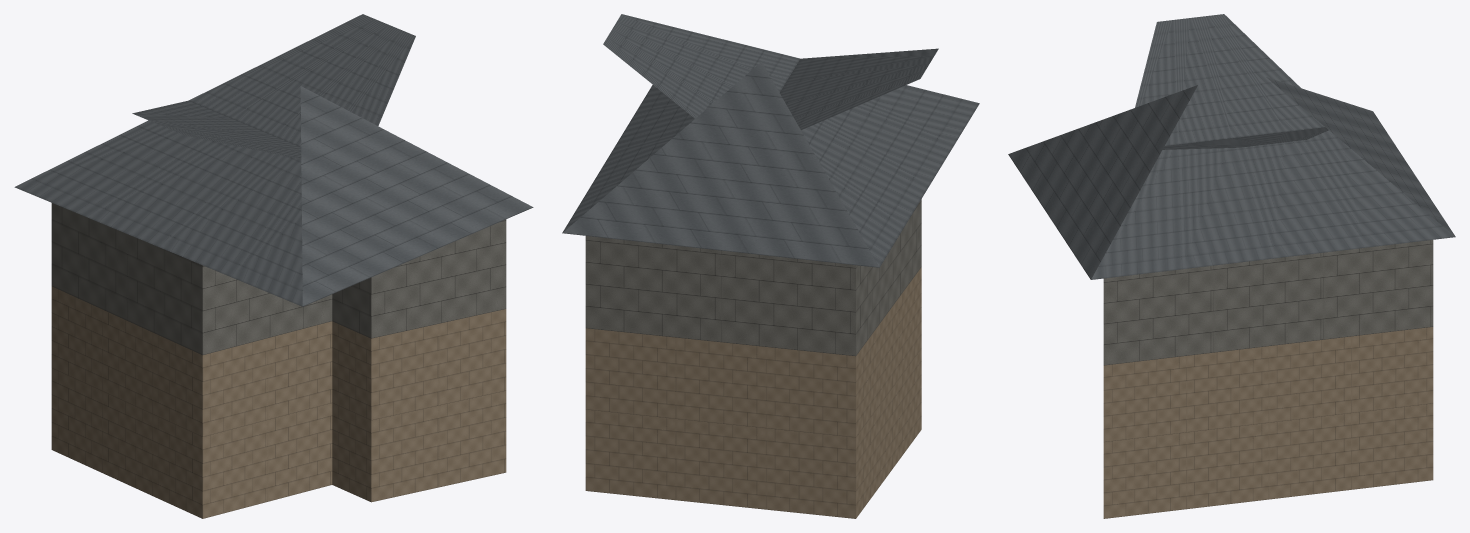
Rendered from bld_c-11_36_471.gltf.
3 views of the same model, side by side, from view 1: azimuth 30°, elevation 25°; view 2: azimuth 150°, elevation 25°; view 3: azimuth 270°, elevation 25° (orthographic). The views are drawn at different scales.
Parts seen in each view (by area): view 1: bld_c-11_36_471; view 2: bld_c-11_36_471; view 3: bld_c-11_36_471.
Boxes of the visible parts, <box> form: bld_c-11_36_471: <box>14,14,533,518</box>; bld_c-11_36_471: <box>562,14,979,518</box>; bld_c-11_36_471: <box>1008,14,1455,518</box>.
Bounding box in the file's own units: 10.92 × 10.97 × 12.25.
3 materials, 3 textured.
